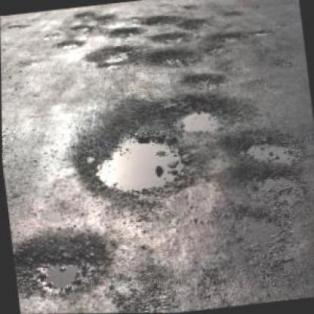Hueco: (64, 98, 198, 208), (223, 199, 300, 286), (225, 162, 309, 212), (172, 88, 259, 135), (221, 125, 303, 173), (142, 43, 200, 73), (81, 42, 137, 70), (198, 26, 244, 58), (176, 68, 228, 92), (176, 14, 210, 35), (106, 23, 143, 41), (140, 12, 177, 29), (56, 37, 85, 51), (95, 11, 116, 22), (67, 23, 88, 32), (73, 10, 92, 18)
